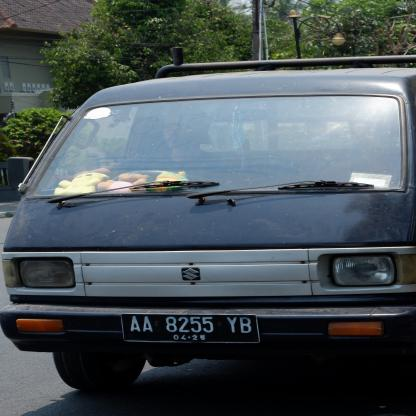Plat-Nomor: (116, 310, 267, 348)
